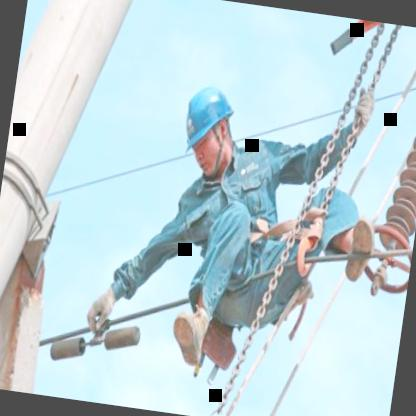helmet: (170, 72, 245, 184)
